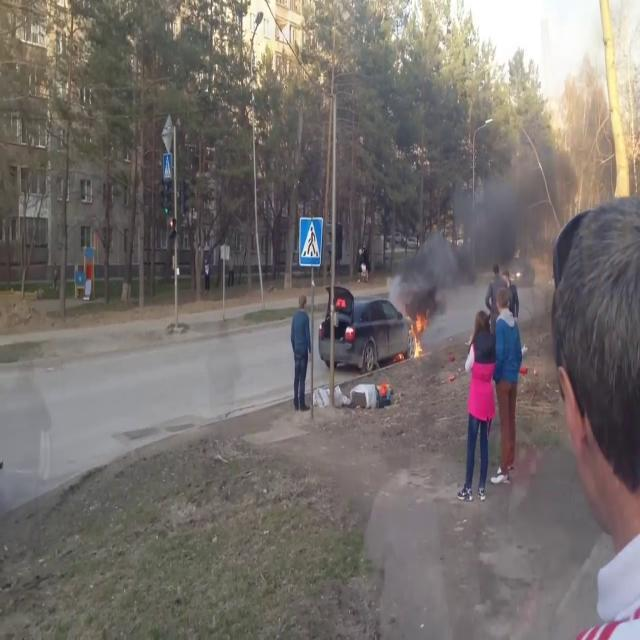Fire: (408, 306, 430, 361)
Smoke: (438, 119, 541, 314)
